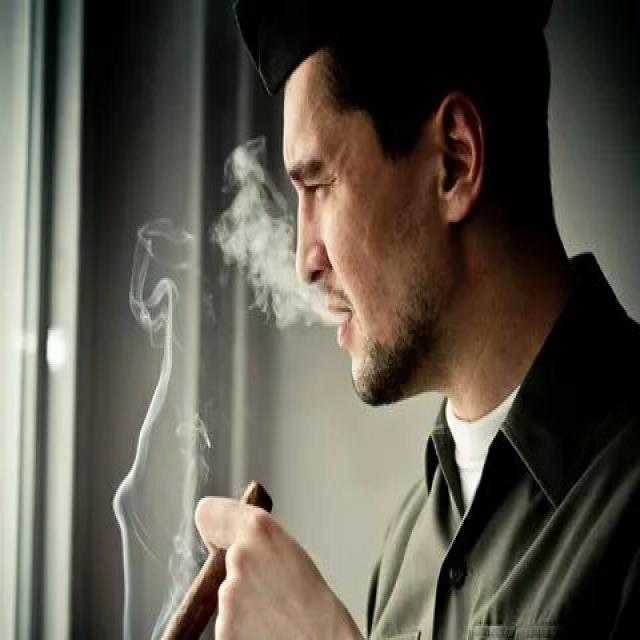smoke: (151, 478, 272, 640)
